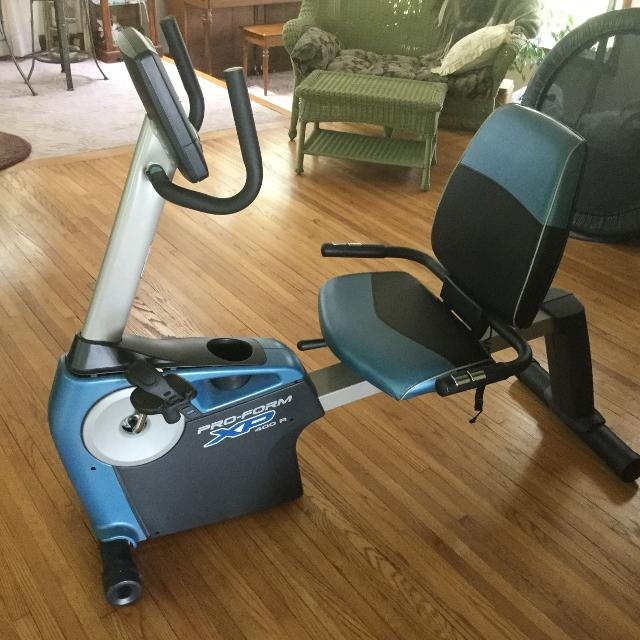gym_bike: (31, 28, 640, 611)
